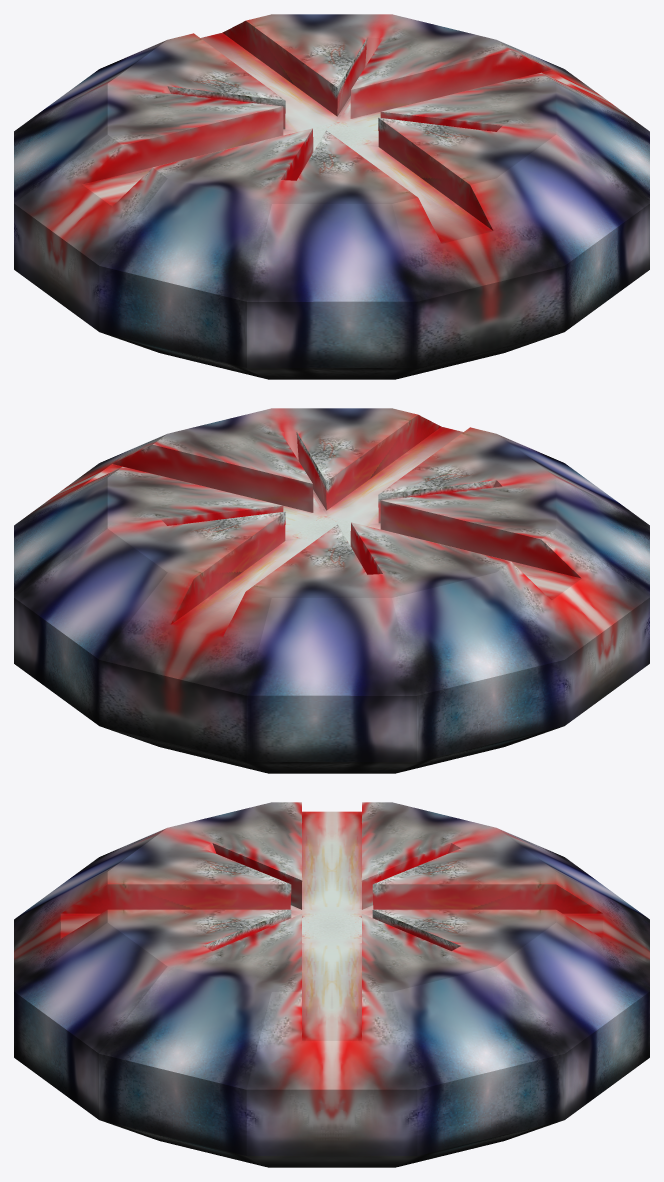
File: LaserBot.fbx
The picture shows the model from 3 angles, top to bottom: view 1: azimuth 30°, elevation 25°; view 2: azimuth 150°, elevation 25°; view 3: azimuth 270°, elevation 25°; orthographic projection.
Visible parts, largest first — view 1: Circle; view 2: Circle; view 3: Circle.
Boxes of the visible parts, x1,y1,x2,y2 form: Circle: (14, 14, 649, 379); Circle: (14, 408, 649, 773); Circle: (14, 802, 649, 1167).
Size of the model in its own units: 260 by 77.14 by 260.
